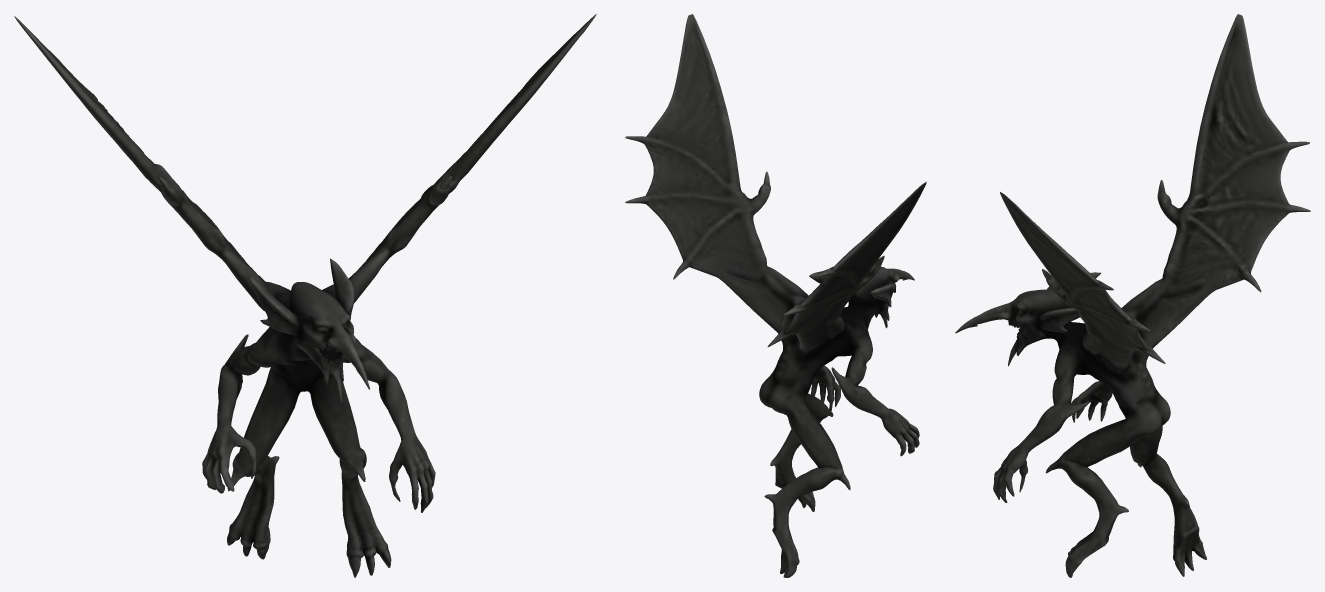
The model's file is MZ4250 - Smoke Mephit_3 2025.glb.
The picture shows the model from 3 angles, left to right: view 1: azimuth 30°, elevation 25°; view 2: azimuth 150°, elevation 25°; view 3: azimuth 270°, elevation 25°; orthographic projection. The views are drawn at different scales.
Visible parts, largest first — view 1: Cylinder.001; view 2: Cylinder.001; view 3: Cylinder.001.
Part boxes in pixels (bbox=[...]): Cylinder.001: bbox=[14, 14, 596, 577]; Cylinder.001: bbox=[625, 14, 926, 577]; Cylinder.001: bbox=[955, 14, 1310, 577].
Bounding box in the file's own units: 101 × 121 × 81.88.
1 material, 1 textured.
